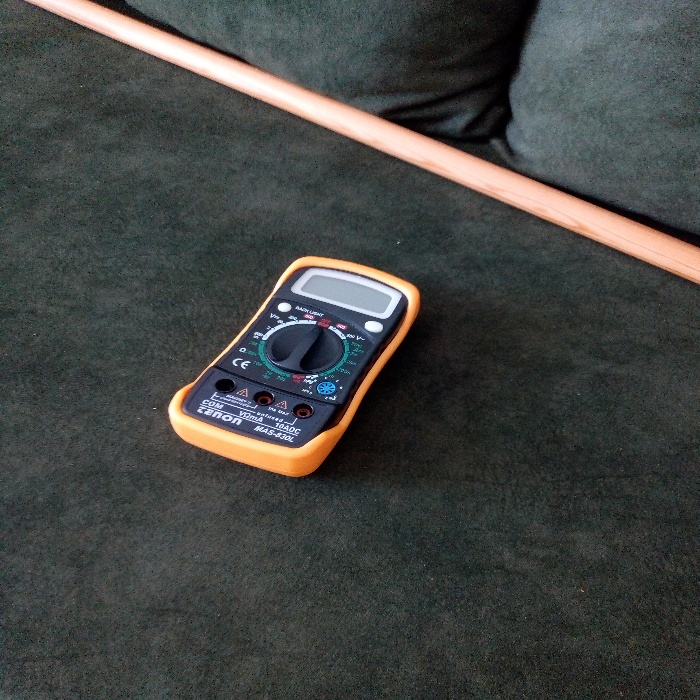multimetre: (163, 247, 428, 472)
